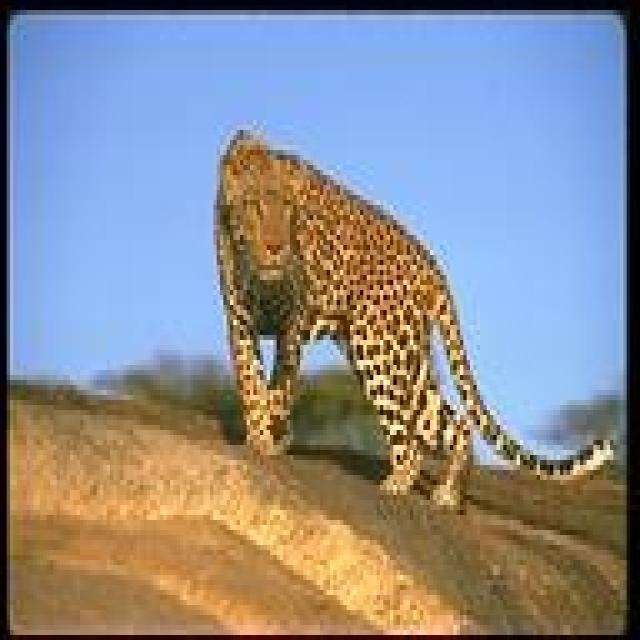Leopard: (212, 127, 610, 513)
